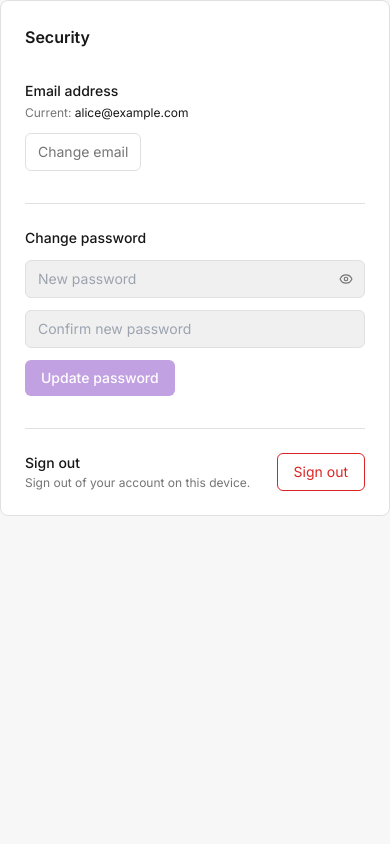
Test case: SecuritySection — Email change › "Send again" resets confirmation state
Click the button "Change email".
click(83, 152)  # box [25,133,141,171]
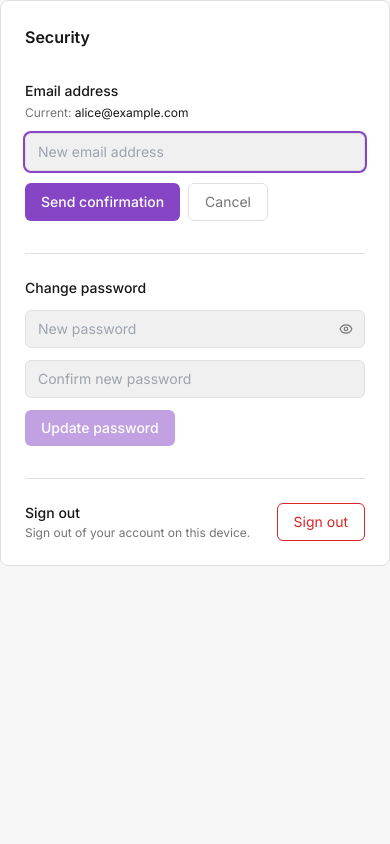
Type "newalice@example.com" into the field with placeholder "New email address".
click(195, 152); type("newalice@example.com")  # box [25,133,365,171]
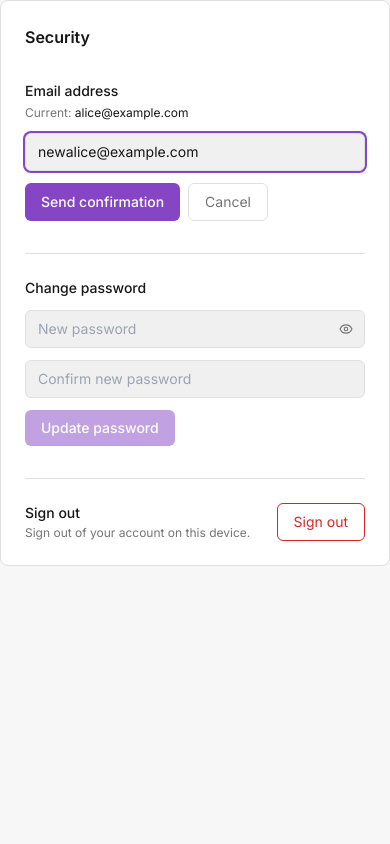
Click the button "Send confirmation".
click(103, 202)  # box [25,183,180,221]
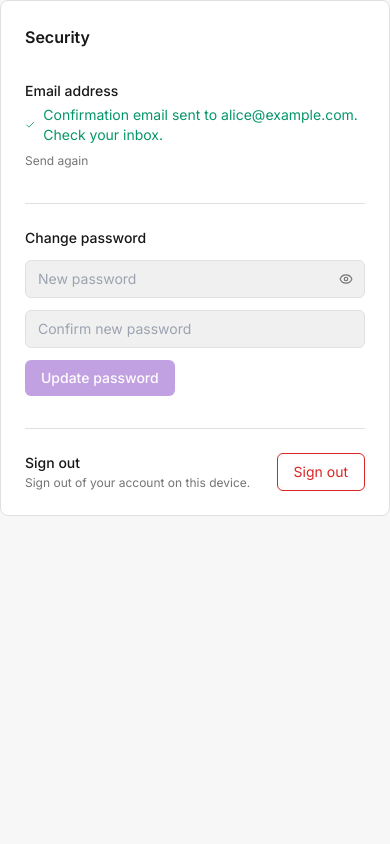
Expected: the text "Confirmation email sent" is shown, [43,106,221,123]
Click the button "Send again".
click(57, 161)  # box [25,153,88,169]
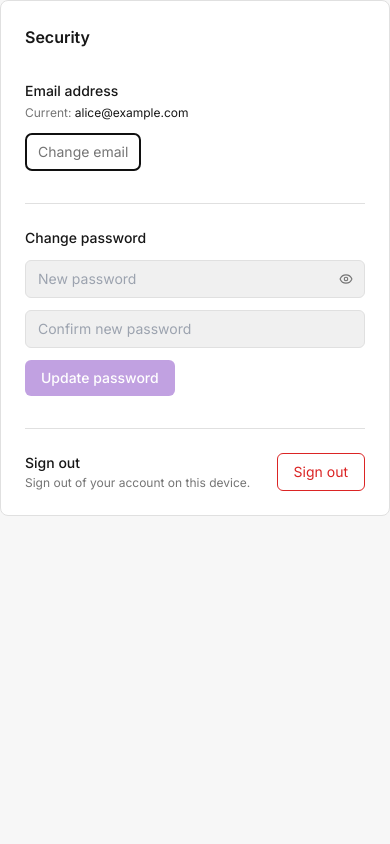
Expected: the button "Change email" is shown, [25,133,141,171]
